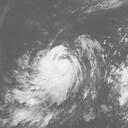cyclone: (31, 46, 85, 103)
